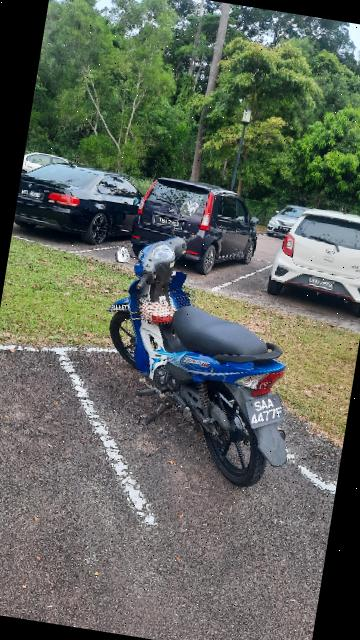License_Plate: (244, 388, 292, 435), (303, 267, 344, 294), (150, 212, 186, 236), (19, 187, 49, 204)
car: (122, 169, 282, 288), (12, 151, 145, 261), (265, 201, 360, 319)
motorcycle: (67, 195, 326, 502)
